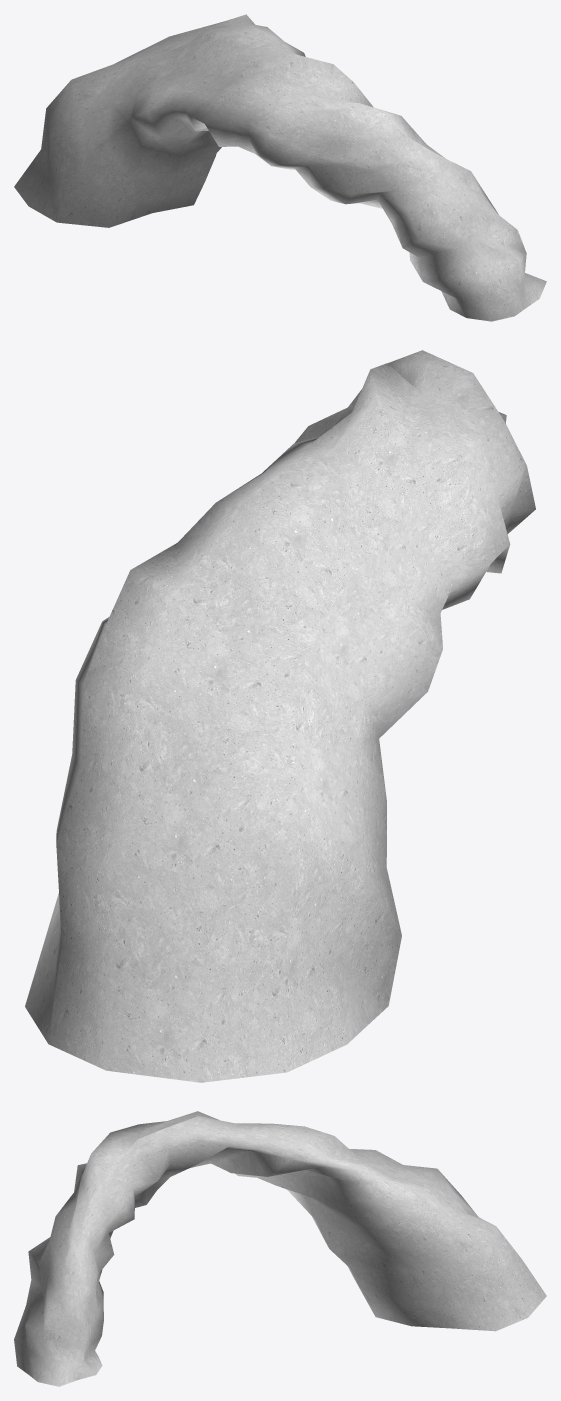
File: GiantArch1.fbx
The picture shows the model from 3 angles, top to bottom: view 1: azimuth 30°, elevation 25°; view 2: azimuth 150°, elevation 25°; view 3: azimuth 270°, elevation 25°; orthographic projection. The views are drawn at different scales.
Visible parts, largest first — view 1: Circle.003; view 2: Circle.003; view 3: Circle.003.
Part boxes in pixels (<box>): Circle.003: <box>14,14,546,321</box>; Circle.003: <box>25,350,535,1082</box>; Circle.003: <box>14,1111,546,1386</box>.
Bounding box in the file's own units: 30430 × 12878 × 17850.
